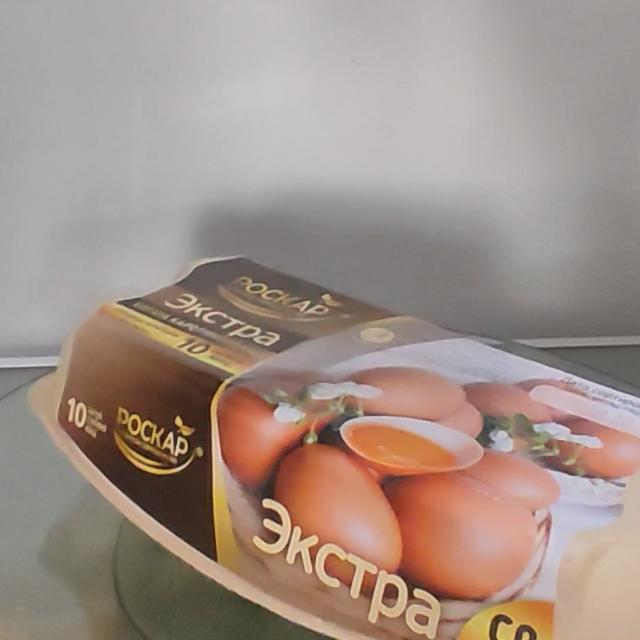egg: (60, 240, 640, 640)
